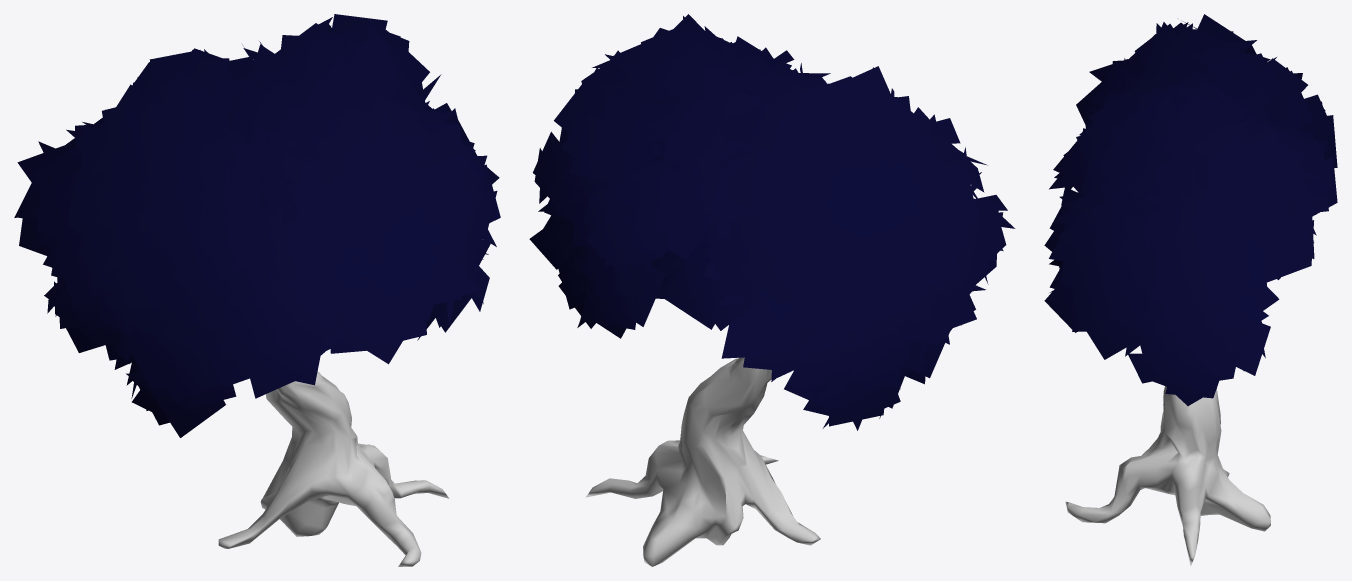
The model's file is tree2_low.fbx.
The picture shows the model from 3 angles, left to right: view 1: azimuth 30°, elevation 25°; view 2: azimuth 150°, elevation 25°; view 3: azimuth 270°, elevation 25°; orthographic projection. The views are drawn at different scales.
Parts seen in each view (by area): view 1: tree2_leaf, tree2_low; view 2: tree2_leaf, tree2_low; view 3: tree2_leaf, tree2_low.
Boxes of the visible parts, box(x1,y1,x2,y2) form: tree2_leaf: box(14, 14, 500, 437); tree2_low: box(218, 372, 449, 566); tree2_leaf: box(529, 14, 1015, 430); tree2_low: box(585, 357, 820, 566); tree2_leaf: box(1044, 14, 1337, 405); tree2_low: box(1065, 386, 1270, 566).
Bounding box in the file's own units: 955 × 1059 × 628.
